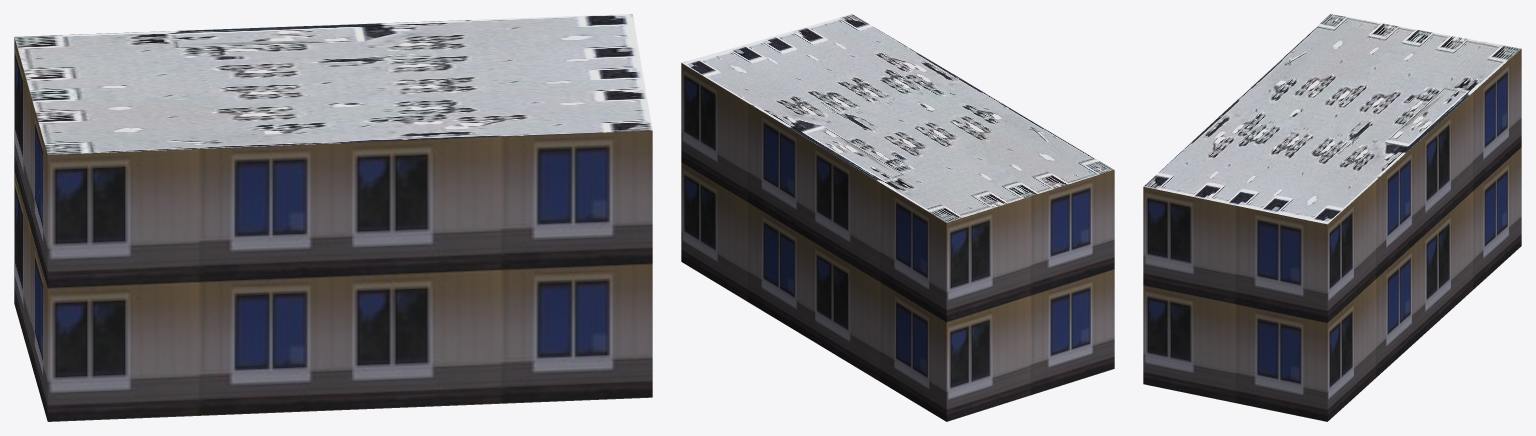
The model's file is ResTex__1196.fbx.
3 views of the same model, side by side, from view 1: azimuth 30°, elevation 25°; view 2: azimuth 150°, elevation 25°; view 3: azimuth 270°, elevation 25° (orthographic). The views are drawn at different scales.
Parts seen in each view (by area): view 1: CityEngineMaterial_5_m, CityEngineMaterial_2_m; view 2: CityEngineMaterial_5_m, CityEngineMaterial_2_m; view 3: CityEngineMaterial_5_m, CityEngineMaterial_2_m.
Boxes of the visible parts, left/top/right/bottom form: CityEngineMaterial_5_m: left=14, top=37, right=652, bottom=421; CityEngineMaterial_2_m: left=14, top=14, right=652, bottom=154; CityEngineMaterial_5_m: left=681, top=63, right=1114, bottom=421; CityEngineMaterial_2_m: left=682, top=14, right=1113, bottom=222; CityEngineMaterial_5_m: left=1143, top=49, right=1521, bottom=421; CityEngineMaterial_2_m: left=1143, top=14, right=1520, bottom=224.
Bounding box in the file's own units: 13.71 × 6 × 10.41.
2 materials, 2 textured.
